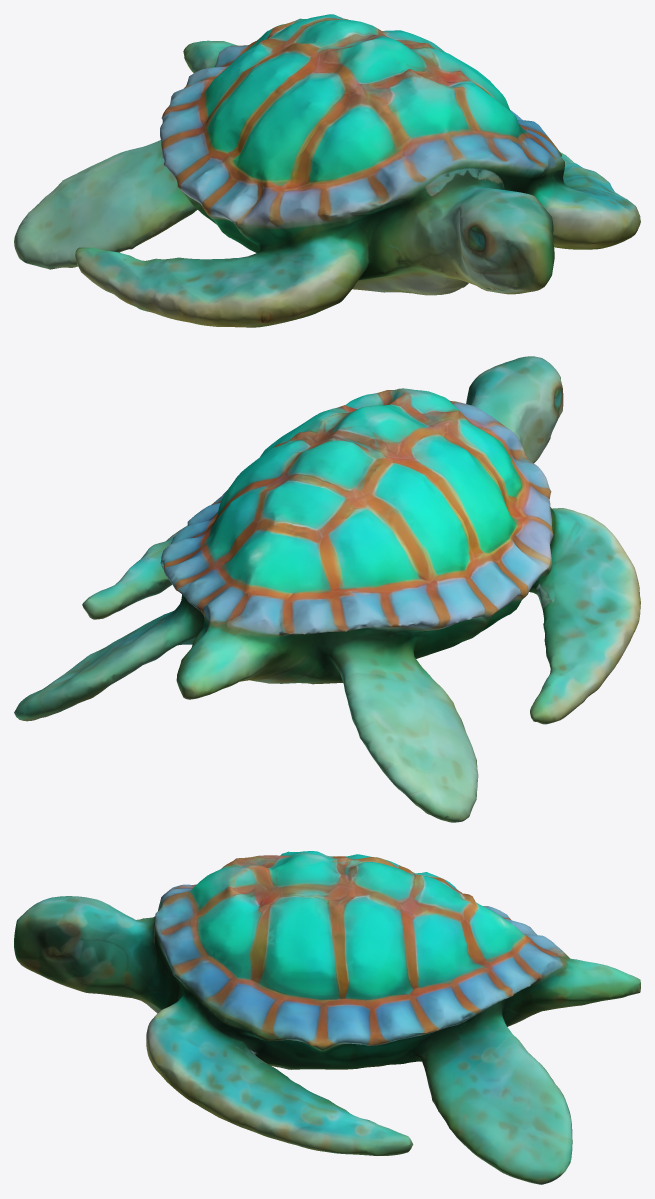
The picture shows the model from 3 angles, top to bottom: view 1: azimuth 30°, elevation 25°; view 2: azimuth 150°, elevation 25°; view 3: azimuth 270°, elevation 25°; orthographic projection. The views are drawn at different scales.
Size of the model in its own units: 0.931 by 0.4895 by 1.2.
Materials: 1 (1 with a texture image).
